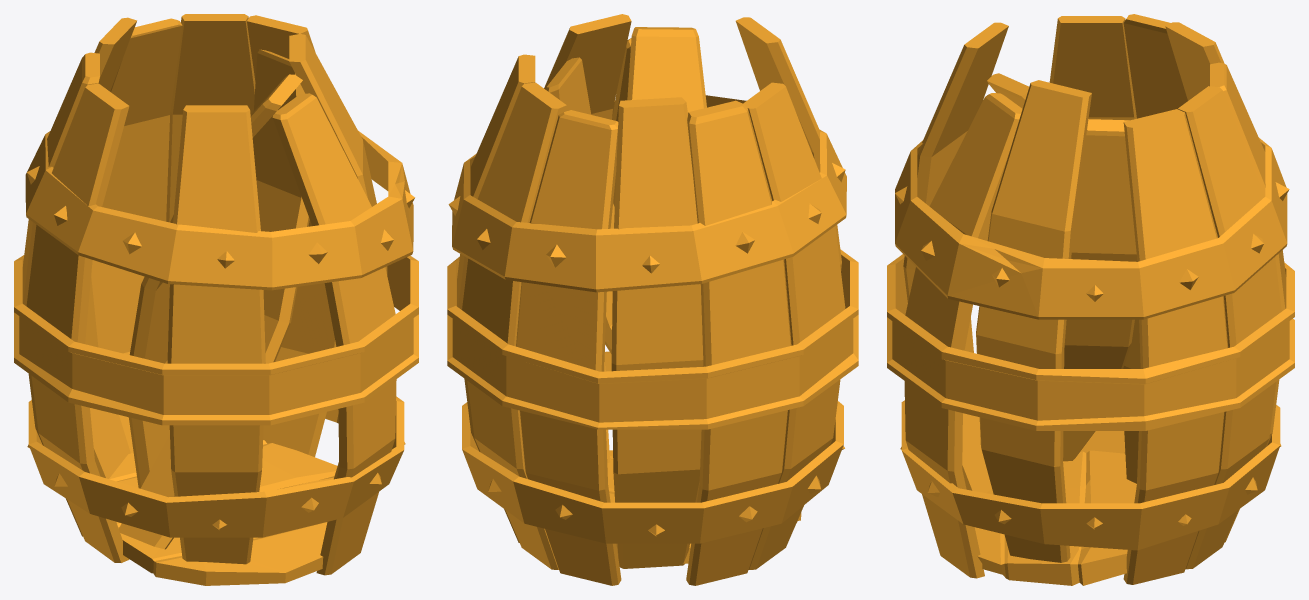
Rendered from SM_Barrel_Wood_A_Broken_A_Fantasy.fbx.
3 views of the same model, side by side, from view 1: azimuth 30°, elevation 25°; view 2: azimuth 150°, elevation 25°; view 3: azimuth 270°, elevation 25° (orthographic).
Visible parts, largest first — view 1: barrel-wood-a-broken-a-fantasy; view 2: barrel-wood-a-broken-a-fantasy; view 3: barrel-wood-a-broken-a-fantasy.
Boxes of the visible parts, left/top/right/bottom form: barrel-wood-a-broken-a-fantasy: left=14, top=14, right=418, bottom=585; barrel-wood-a-broken-a-fantasy: left=447, top=14, right=858, bottom=585; barrel-wood-a-broken-a-fantasy: left=887, top=14, right=1294, bottom=585.
Bounding box in the file's own units: 0.9918 × 1.29 × 0.9918.
